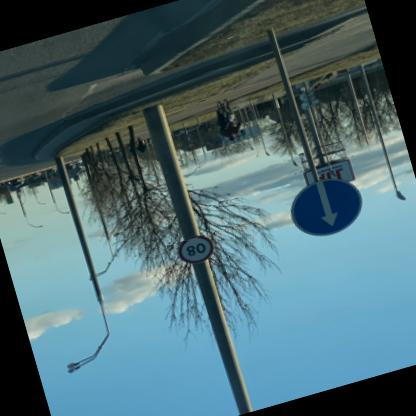speedlimit: (174, 234, 216, 269)
